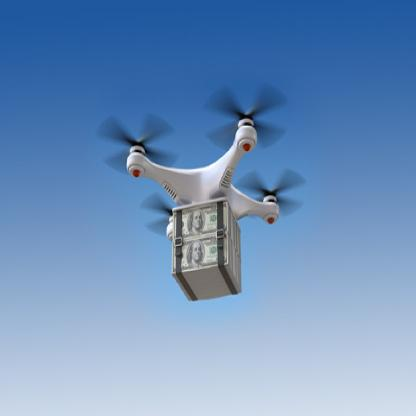drone: (94, 95, 309, 259)
